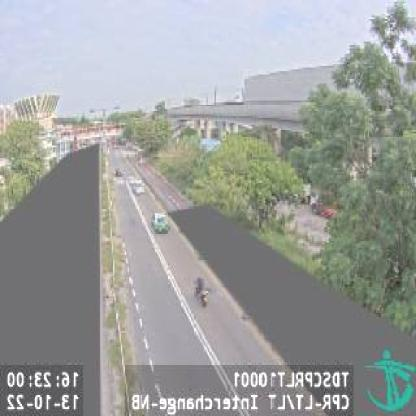Car: (152, 210, 171, 233), (130, 177, 144, 195)
